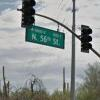Traffic light: (13, 3, 95, 52)
